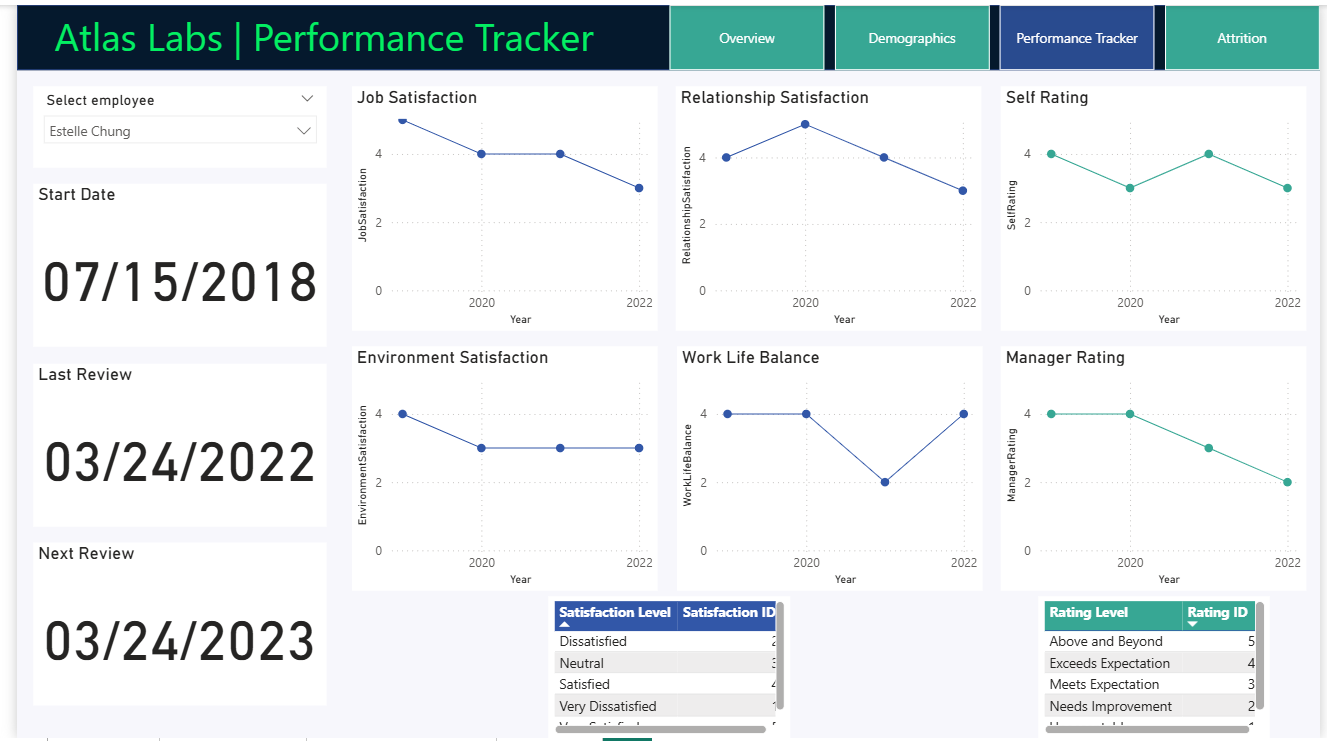

The page's visual inventory and layout, read from the dashboard file:
{"tool":"powerbi","page":{"name":"Performance Tracker","canvas":[1280,720],"ordinal":2},"visuals":[{"type":"shape","box":[0,0,1280,64],"z":0},{"type":"textbox","box":[32,0,624,64],"z":1000},{"type":"pageNavigator","box":[640,0,640,64],"z":2000},{"type":"slicer","fields":{"Values":["DimEmployee.FullName"]},"box":[16,80,288,80],"z":3000},{"type":"card","title":"Start Date","fields":{"Values":["Min(DimEmployee.HireDate)"]},"box":[16,176,288,160],"z":4000},{"type":"card","title":"Last Review","fields":{"Values":["_Measures.LastReviewDate"]},"box":[16,352,288,160],"z":5000},{"type":"card","title":"Next Review","fields":{"Values":["_Measures.NextReviewDate"]},"box":[16,528,288,160],"z":6000},{"type":"lineChart","title":"Job Satisfaction","fields":{"Y":["_Measures.JobSatisfaction"],"Category":["DimDate.Year"]},"box":[328.3,79.8,300,240.3],"z":7000},{"type":"lineChart","title":"Relationship Satisfaction","fields":{"Y":["_Measures.RelationshipSatisfaction"],"Category":["DimDate.Year"]},"box":[646.9,79.8,300,240.3],"z":8000},{"type":"lineChart","title":"Self Rating","fields":{"Y":["_Measures.SelfRating"],"Category":["DimDate.Year"]},"box":[965.5,79.8,299.7,240.3],"z":9000},{"type":"lineChart","title":"Work Life Balance","fields":{"Y":["_Measures.WorkLifeBalance"],"Category":["DimDate.Year"]},"box":[647.4,335.5,299.7,240.3],"z":10000},{"type":"lineChart","title":"Manager Rating","fields":{"Y":["_Measures.ManagerRating"],"Category":["DimDate.Year"]},"box":[965.5,335.5,299.7,240.3],"z":11000},{"type":"lineChart","title":"Environment Satisfaction","fields":{"Y":["_Measures.EnvironmentSatisfaction"],"Category":["DimDate.Year"]},"box":[328.3,335.5,300,240.3],"z":12000},{"type":"tableEx","fields":{"Values":["DimRatingLevel.RatingLevel","DimRatingLevel.RatingID"]},"box":[1002.3,579.9,227,140.1],"z":13000},{"type":"tableEx","fields":{"Values":["DimSatisfiedLevel.SatisfactionLevel","DimSatisfiedLevel.SatisfactionID"]},"box":[521.6,579.9,237.3,140.1],"z":14000}]}

Visuals, with their boxes in screenshot pixels (x1, y1, x2, y2), scaled from the page's 1280x720 canvas onto the 1327x741 screenshot:
shape: select_region(0, 0, 1326, 66)
textbox: select_region(33, 0, 680, 66)
pageNavigator: select_region(664, 0, 1326, 66)
slicer - DimEmployee.FullName: select_region(17, 82, 315, 165)
"Start Date" card: select_region(17, 181, 315, 346)
"Last Review" card: select_region(17, 362, 315, 527)
"Next Review" card: select_region(17, 543, 315, 708)
"Job Satisfaction" lineChart: select_region(340, 82, 651, 329)
"Relationship Satisfaction" lineChart: select_region(671, 82, 982, 329)
"Self Rating" lineChart: select_region(1001, 82, 1312, 329)
"Work Life Balance" lineChart: select_region(671, 345, 982, 593)
"Manager Rating" lineChart: select_region(1001, 345, 1312, 593)
"Environment Satisfaction" lineChart: select_region(340, 345, 651, 593)
tableEx - DimRatingLevel.RatingLevel x DimRatingLevel.RatingID: select_region(1039, 597, 1274, 740)
tableEx - DimSatisfiedLevel.SatisfactionLevel x DimSatisfiedLevel.SatisfactionID: select_region(541, 597, 787, 740)
